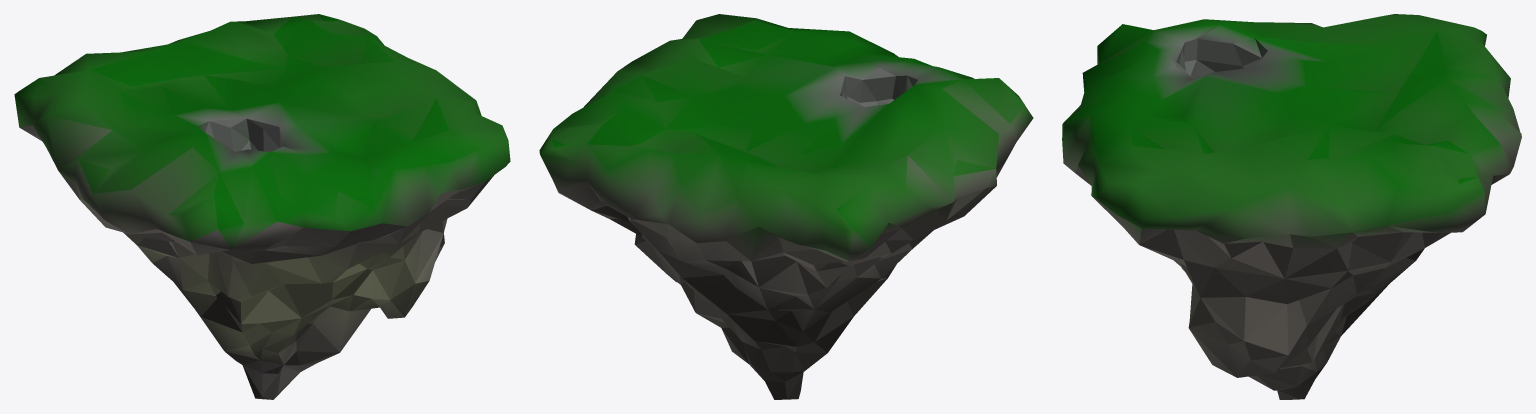
The model's file is Terrain.fbx.
The picture shows the model from 3 angles, left to right: view 1: azimuth 30°, elevation 25°; view 2: azimuth 150°, elevation 25°; view 3: azimuth 270°, elevation 25°; orthographic projection. The views are drawn at different scales.
Parts seen in each view (by area): view 1: Cube; view 2: Cube; view 3: Cube.
Boxes of the visible parts, x1,y1,x2,y2 form: Cube: (14,14,510,399); Cube: (539,14,1033,399); Cube: (1062,14,1521,399).
Bounding box in the file's own units: 1917 × 1498 × 1907.
